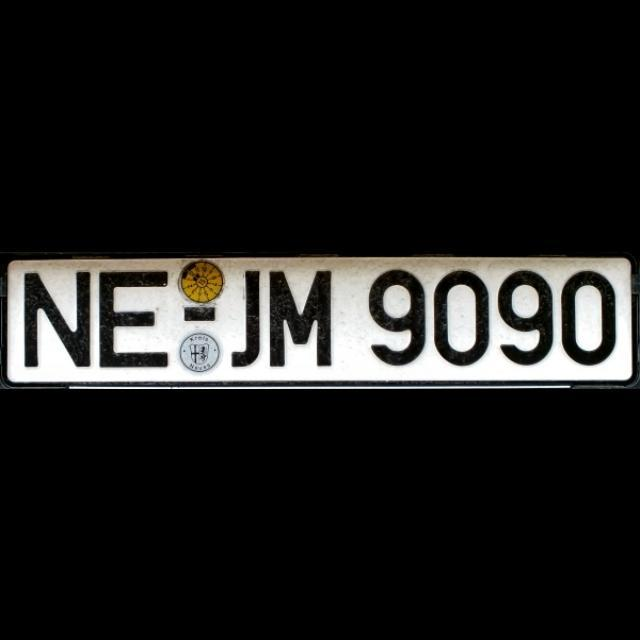license-plates: (4, 257, 637, 386)
